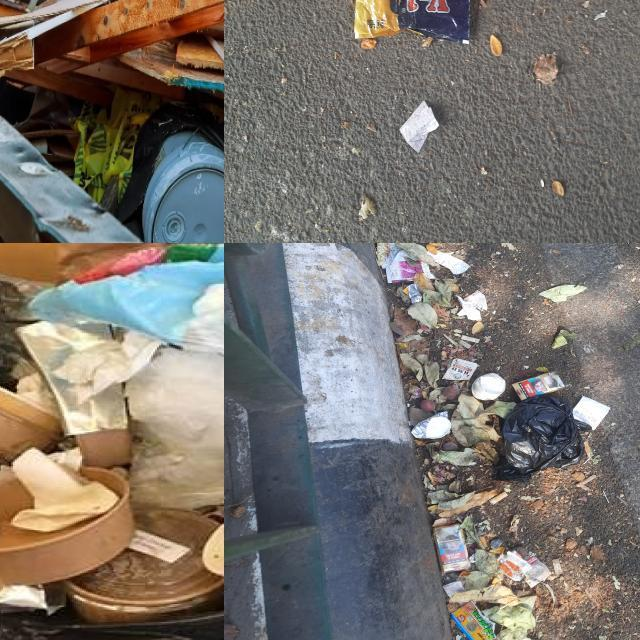Background: (372, 243, 640, 640), (224, 0, 640, 243)
Cig_bud: (488, 491, 508, 504), (553, 558, 563, 574), (584, 441, 594, 457), (460, 335, 480, 343), (458, 340, 471, 350)
Cig_pack: (433, 524, 470, 571), (512, 372, 565, 401)
Garbage: (0, 243, 224, 627)
Plastic: (31, 243, 224, 356), (127, 347, 224, 508), (73, 87, 158, 202)
Plastic_Bag: (492, 395, 583, 482)
Plastic_Container: (143, 132, 224, 243)
Plastic_wraper: (355, 0, 469, 43), (498, 550, 551, 586), (452, 601, 498, 640), (442, 358, 478, 381)
